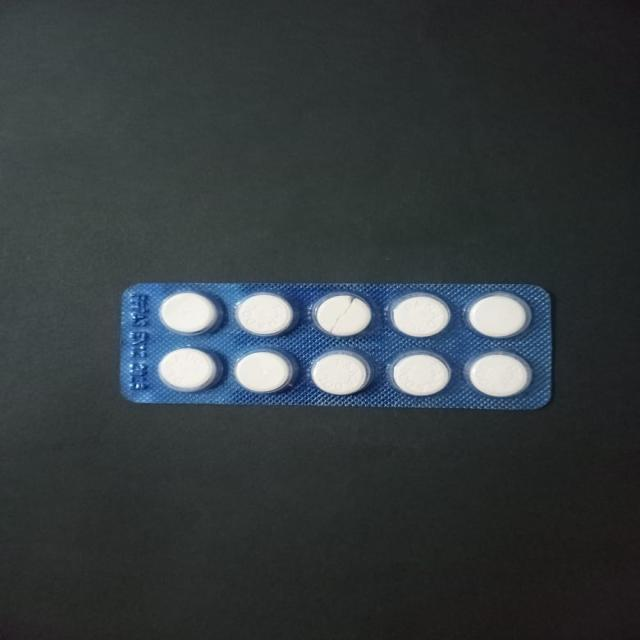defect: (310, 290, 377, 340)
